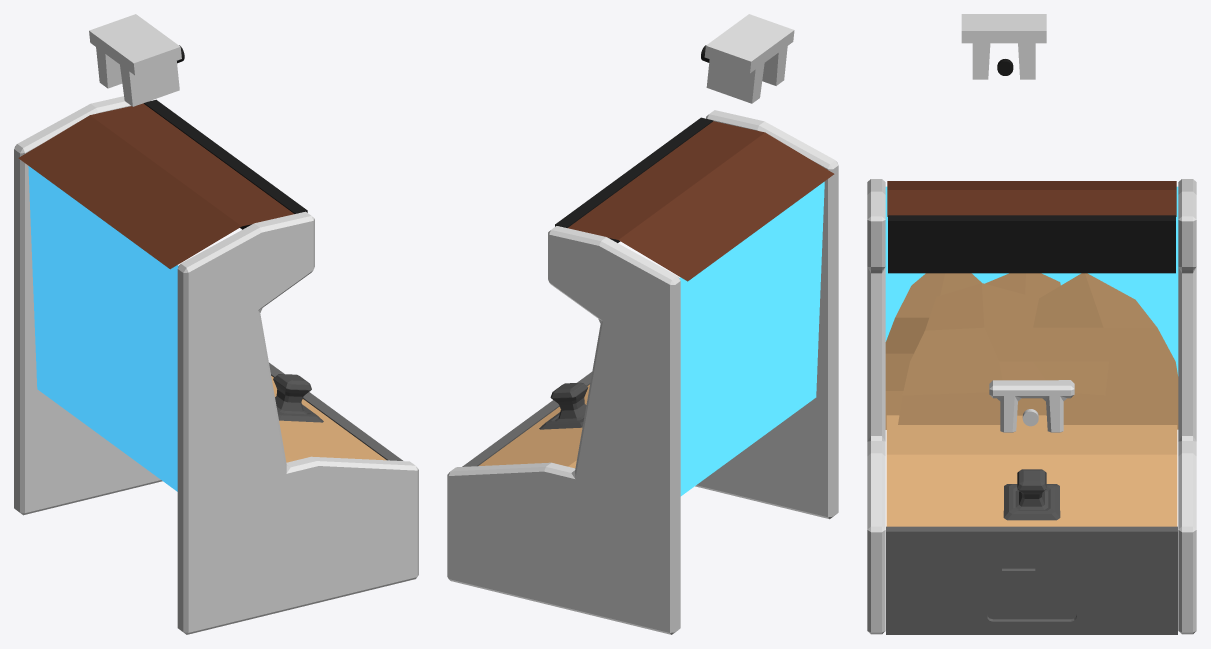
The model's file is Mined Maps.glb.
3 renders of one model, left to right at view 1: azimuth 30°, elevation 25°; view 2: azimuth 150°, elevation 25°; view 3: azimuth 270°, elevation 25°, orthographic. The views are drawn at different scales.
Visible parts, largest first — view 1: Sides, Cab Back, Cab Top, Mine.001, Control Panel, Title, JoyStick, Cab Front.001; view 2: Sides, Cab Back, Cab Top, Mine.001, Control Panel, Title, JoyStick, Cab Front.001; view 3: Cab Front.001, Mountian, Control Panel, Sides, Title, Cab Top, Plane.004, Cab Back, Mine.001, Mine, JoyStick.
Part boxes in pixels (<box>): Sides: <box>14,96,418,634</box>; Cab Back: <box>28,166,178,491</box>; Cab Top: <box>18,103,294,269</box>; Mine.001: <box>89,14,181,106</box>; Control Panel: <box>271,376,386,462</box>; Title: <box>143,99,307,229</box>; JoyStick: <box>273,374,323,422</box>; Cab Front.001: <box>269,362,402,460</box>; Sides: <box>447,110,838,634</box>; Cab Back: <box>679,181,824,496</box>; Cab Top: <box>567,121,834,281</box>; Mine.001: <box>704,14,794,103</box>; Control Panel: <box>479,384,589,468</box>; Title: <box>555,117,713,242</box>; JoyStick: <box>539,382,588,429</box>; Cab Front.001: <box>462,372,591,466</box>; Cab Front.001: <box>886,526,1177,634</box>; Mountian: <box>898,273,1178,429</box>; Control Panel: <box>886,415,1177,526</box>; Sides: <box>867,179,1196,634</box>; Title: <box>888,215,1175,273</box>; Cab Top: <box>887,181,1176,216</box>; Plane.004: <box>885,273,1060,429</box>; Cab Back: <box>885,186,1178,375</box>; Mine.001: <box>961,14,1046,79</box>; Mine: <box>989,380,1074,432</box>; JoyStick: <box>1003,469,1060,520</box>.
Bounding box in the file's own units: 7.22 × 15.61 × 9.02.
